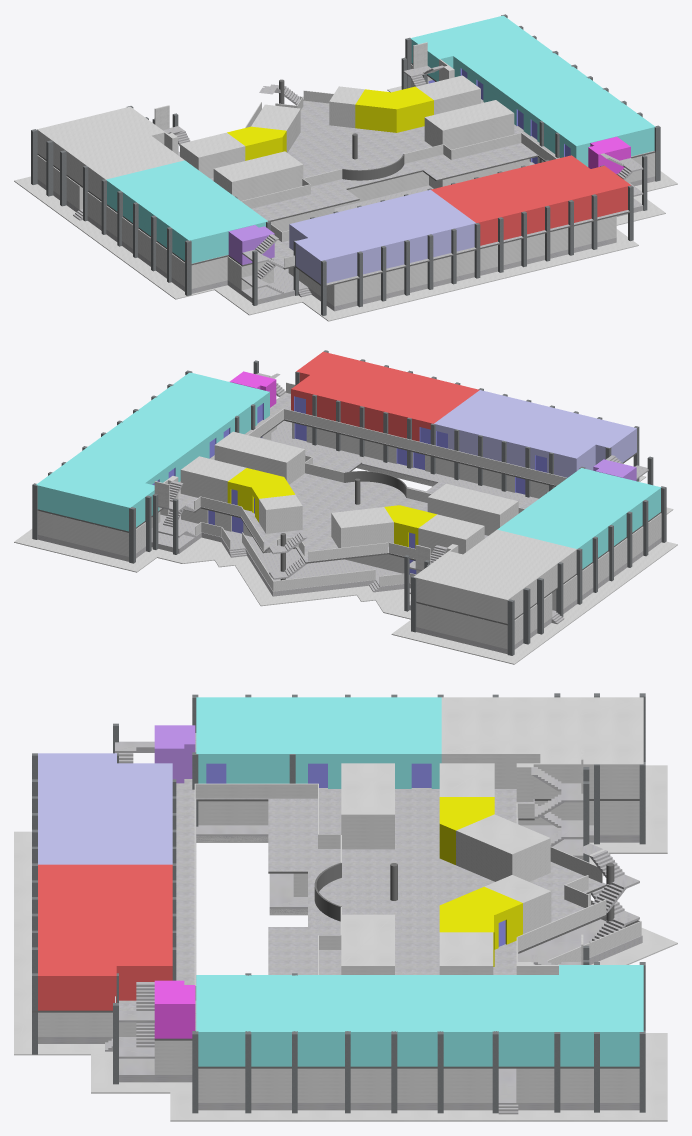
File: Annex11F.gltf
3 views of the same model, one above another, from view 1: azimuth 30°, elevation 25°; view 2: azimuth 150°, elevation 25°; view 3: azimuth 270°, elevation 25° (orthographic). The views are drawn at different scales.
Visible parts, largest first — view 1: object 57, object 59, object 72, object 66, object 68, object 76, object 73, object 64, object 63, object 84, object 61, object 102 (+16 smaller); view 2: object 57, object 72, object 66, object 76, object 59, object 84, object 68, object 64, object 61, object 73, object 63, object 107 (+15 smaller); view 3: object 57, object 59, object 68, object 76, object 66, object 72, object 64, object 73, object 63, object 84, object 77, object 61 (+15 smaller).
Part boxes in pixels (x1,y1,x2,y2): object 57: (37, 59, 514, 200); object 59: (37, 63, 655, 286); object 72: (289, 189, 475, 284); object 66: (431, 155, 630, 245); object 68: (106, 160, 267, 263); object 76: (14, 86, 677, 321); object 73: (525, 89, 655, 166); object 64: (410, 15, 552, 84); object 63: (475, 53, 603, 131); object 84: (37, 161, 655, 311); object 61: (241, 90, 556, 267); object 102: (503, 216, 616, 264); object 57: (159, 431, 576, 623); object 72: (434, 390, 636, 477); object 66: (291, 351, 479, 444); object 76: (14, 464, 677, 664); object 59: (37, 392, 660, 625); object 84: (37, 420, 661, 653); object 68: (497, 468, 661, 568); object 64: (36, 447, 167, 531); object 61: (194, 382, 566, 561); object 73: (138, 372, 269, 442); object 63: (88, 410, 217, 481); object 107: (195, 522, 416, 591); object 57: (341, 697, 643, 974); object 59: (32, 733, 639, 1068); object 68: (196, 697, 441, 788); object 76: (14, 765, 677, 1121); object 66: (38, 864, 172, 1010); object 72: (38, 753, 172, 864); object 64: (493, 965, 643, 1066); object 73: (196, 975, 347, 1066); object 63: (347, 975, 493, 1066); object 84: (38, 825, 642, 1110); object 77: (198, 1068, 437, 1102); object 61: (115, 783, 606, 1002).
Size of the model in its own units: 63.37 by 8.13 by 50.1.
11 materials, 3 textured.
